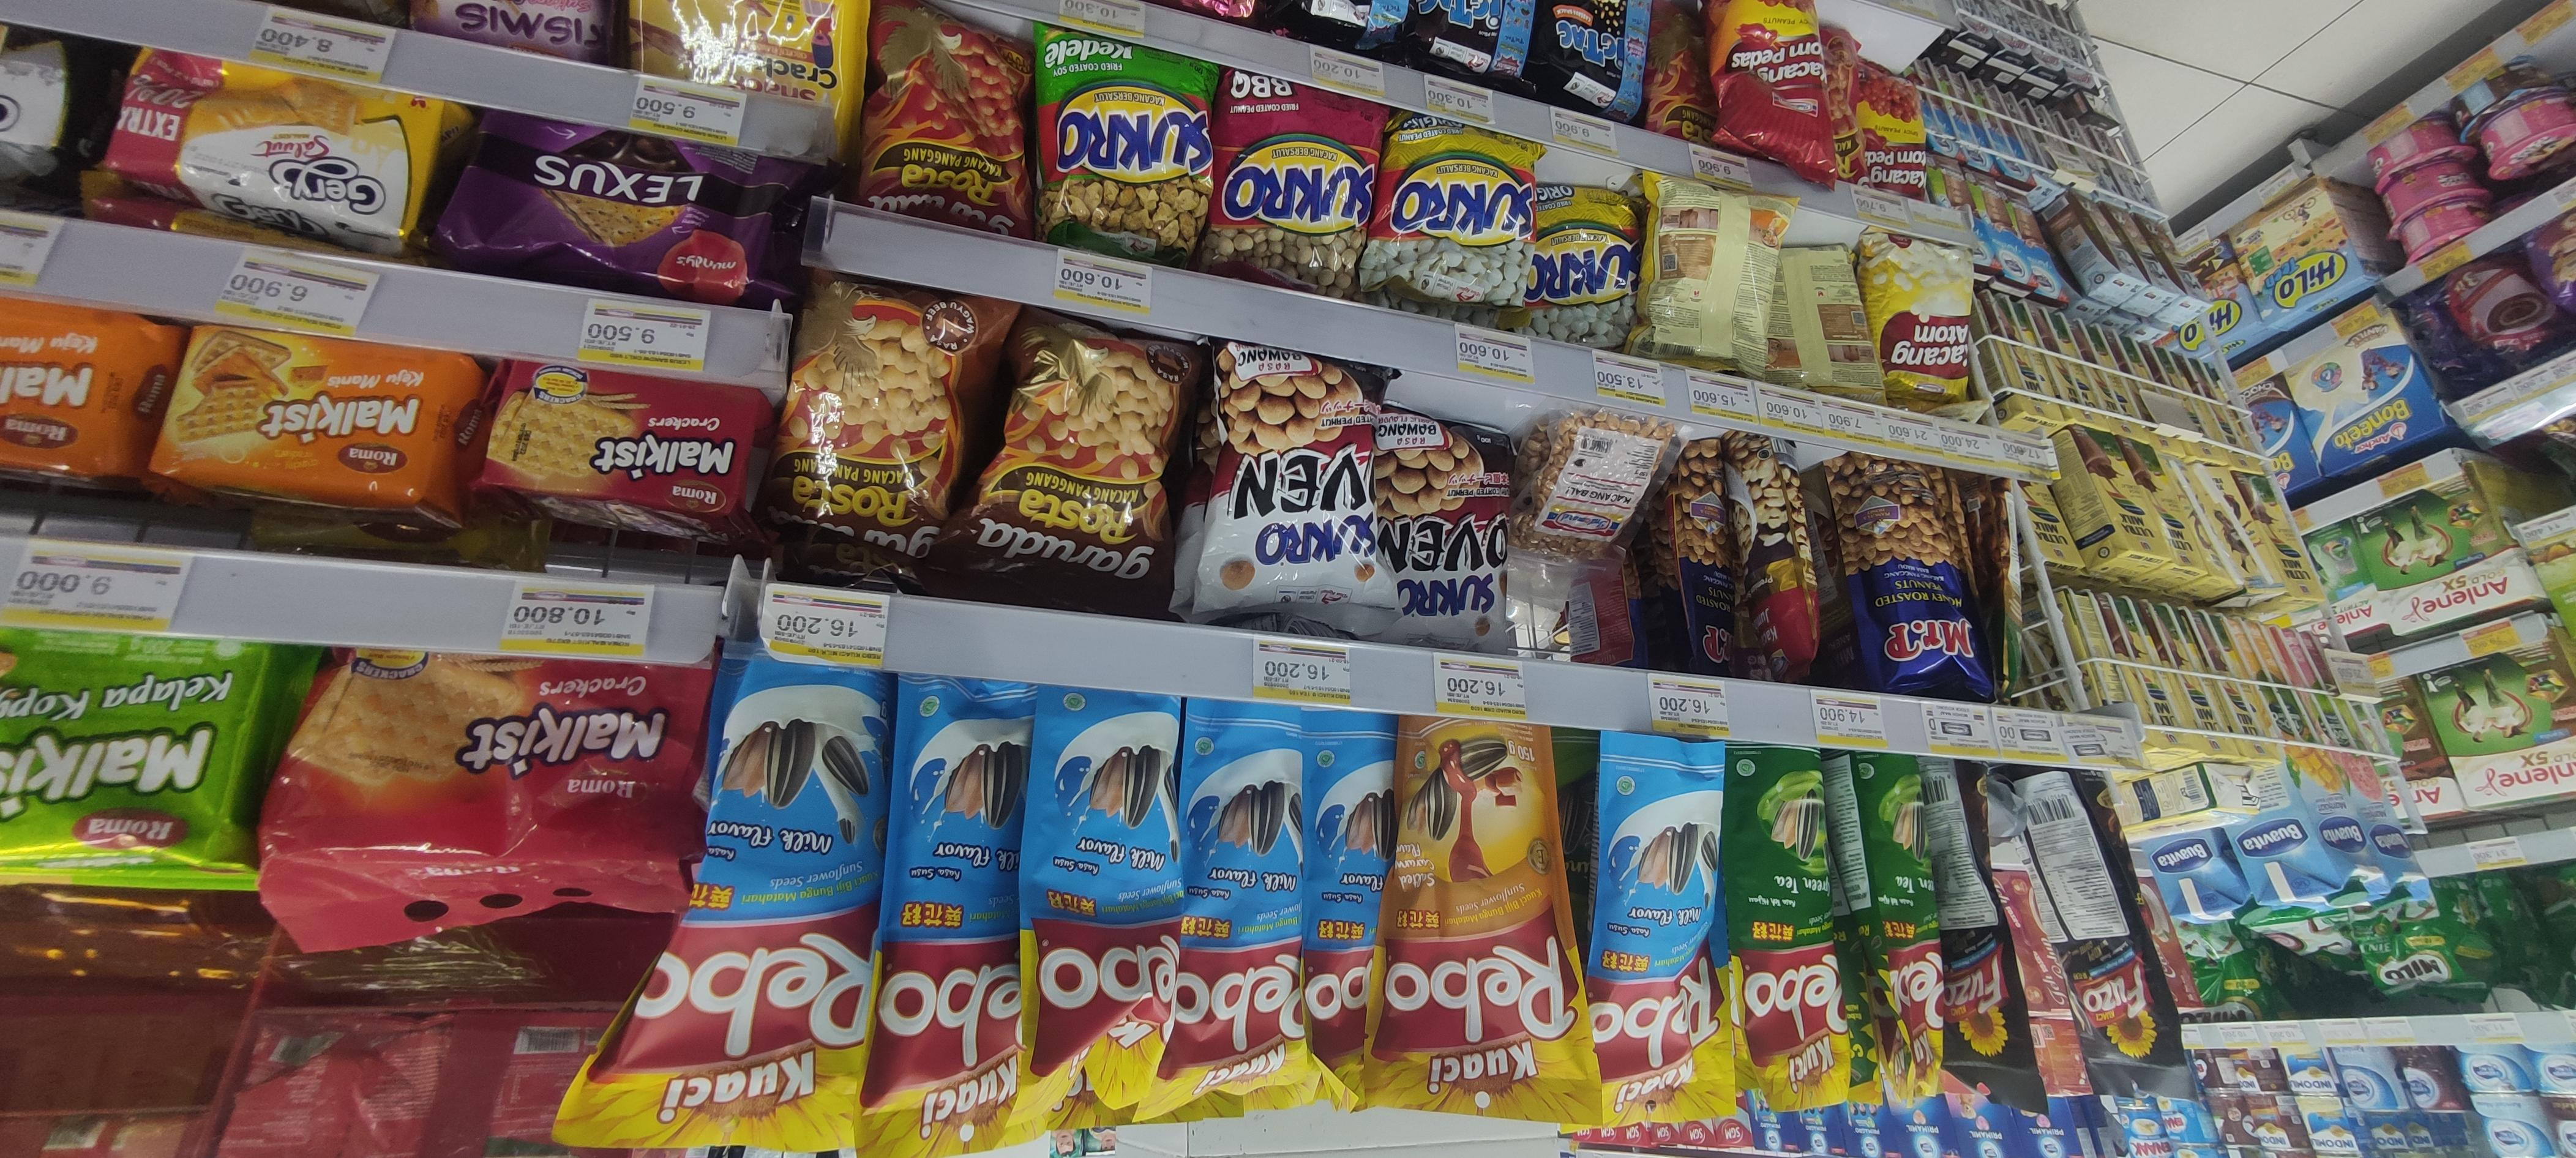90101111611100: (862, 11, 1046, 243)
90101111615100: (959, 342, 1180, 577), (775, 315, 991, 545)
90101225205101: (159, 67, 448, 266)
IndomaretKacangGoreng: (1536, 420, 1684, 562)
KuaciReboCaramel: (1352, 734, 1612, 1140)
KuaciReboMatchaTea: (1740, 749, 1863, 1158)
KuaciReboMilk: (547, 654, 889, 1140), (1028, 677, 1175, 1140), (1157, 670, 1301, 1133), (1598, 715, 1743, 1158), (897, 677, 1033, 1138)
Lexus: (467, 158, 789, 268)
Mr.PPeanut: (1845, 447, 1985, 700)
RomaMalkistCrackers: (245, 636, 701, 986), (490, 365, 754, 545)
RomaMalkistKeju: (163, 312, 463, 535)
SukroBbq: (1224, 59, 1382, 286)
SukroKedele: (1048, 30, 1224, 243)
SukroOriginal: (1375, 102, 1549, 332), (1533, 192, 1631, 368)
SukroOvenBawang: (1186, 350, 1382, 614), (1375, 420, 1518, 632)
